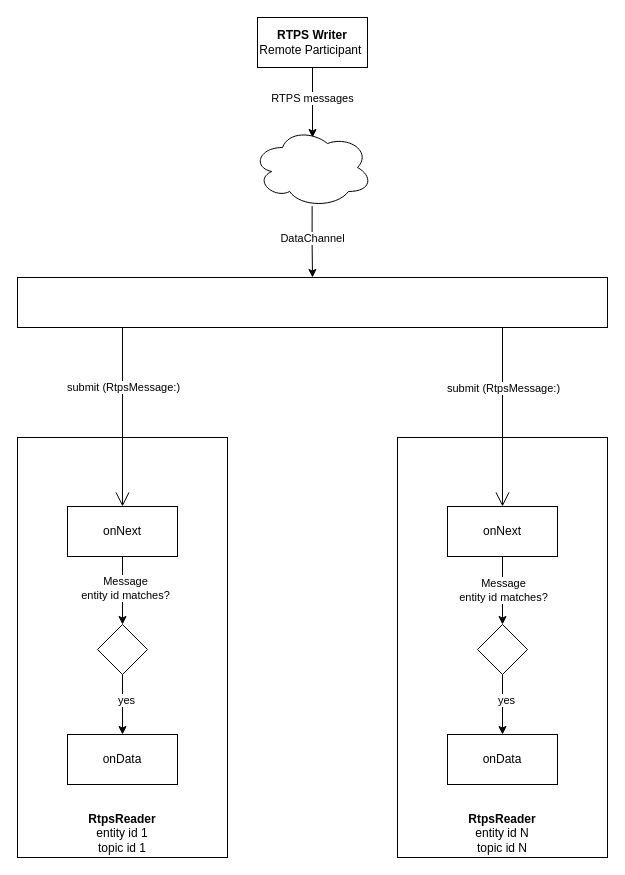
Some shapes in this 625 by 875 pixel diagram are drawn without their labels. Each missing label, with the centre of its shape:
"Network" goes at [312,167].
"RtpsMessageReceiver listens user endpoint port" goes at [312,302].
